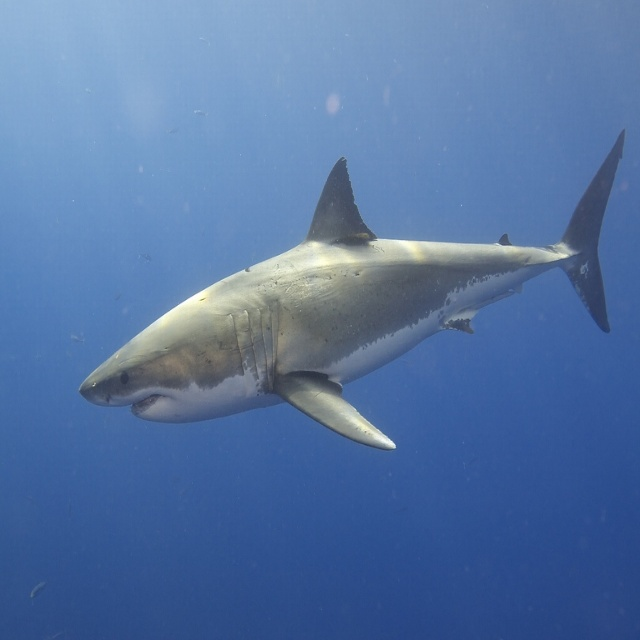Shark: (80, 131, 624, 447)
